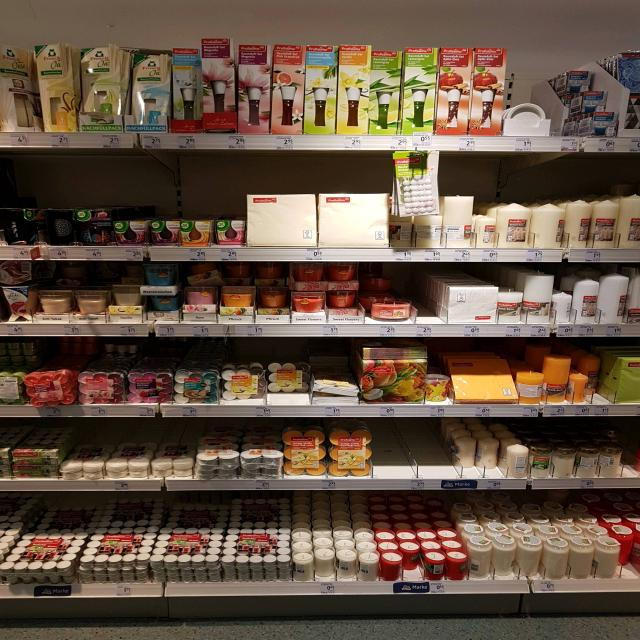unorganised: (1, 44, 39, 133), (183, 261, 286, 287), (290, 260, 360, 292), (567, 66, 613, 112), (22, 371, 79, 408), (269, 359, 310, 407), (456, 438, 501, 478), (532, 199, 567, 249), (224, 365, 264, 405), (315, 371, 357, 406), (565, 200, 591, 249), (585, 358, 606, 397), (507, 446, 530, 480), (568, 370, 590, 405), (520, 370, 543, 403), (314, 548, 336, 582), (362, 269, 394, 292), (551, 292, 573, 325), (620, 537, 637, 572), (403, 551, 422, 574)
